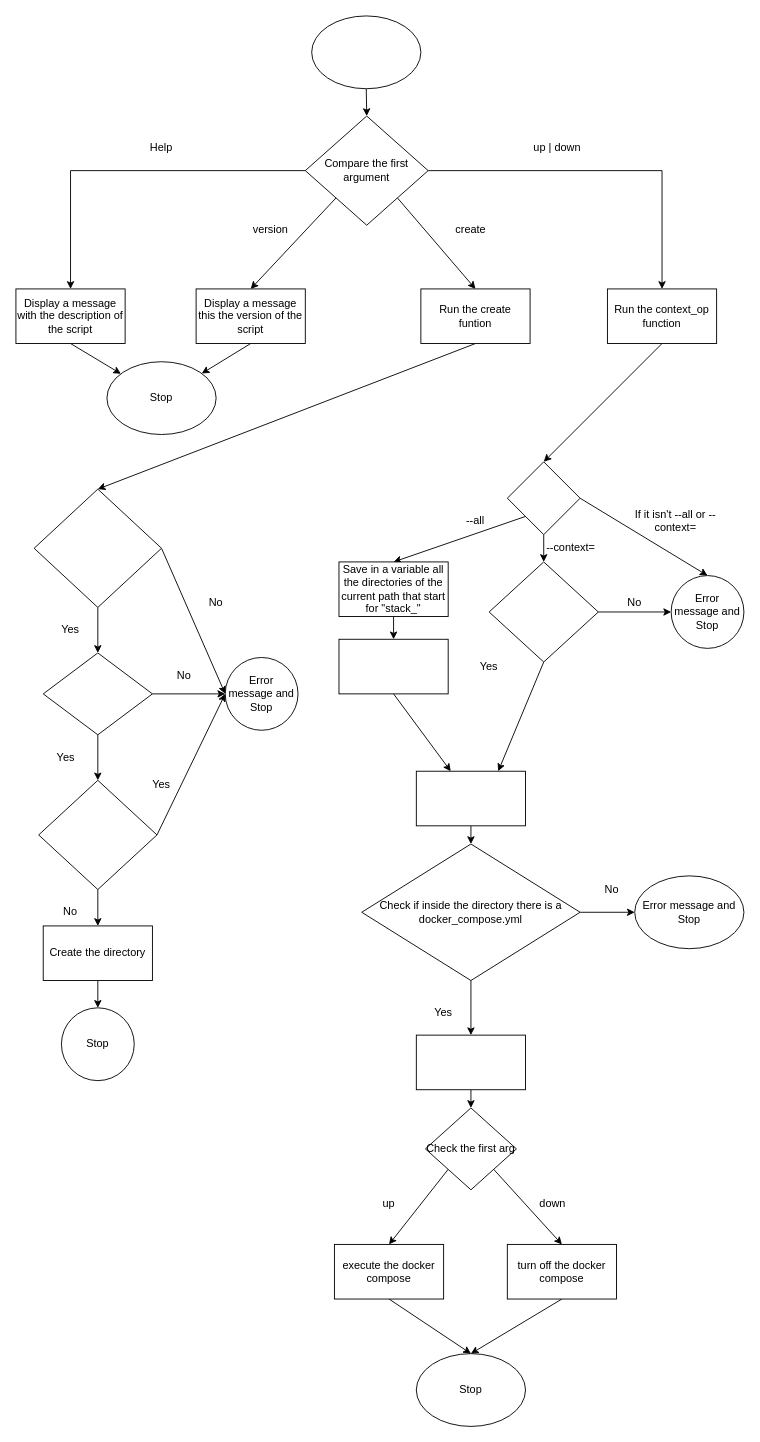
Image size: 760x1442. Some labels were removed from this diagram. The box of each missing label's shape, as (x1, y1, x2, y2) in pixels:
Check if the given name have correct format "stack_N": (488, 561, 598, 662)
Check if the second arg contain "--context=": (33, 488, 162, 607)
Check if there's a directory with that name already: (38, 779, 157, 890)
Check the name format: (42, 652, 152, 735)
Check the secons arg: (506, 461, 580, 535)
Iterate all the list: (338, 638, 448, 694)
Run check_compose function: (415, 770, 526, 826)
Run the statement_up_down function: (415, 1034, 526, 1090)
Start: (311, 15, 421, 89)
